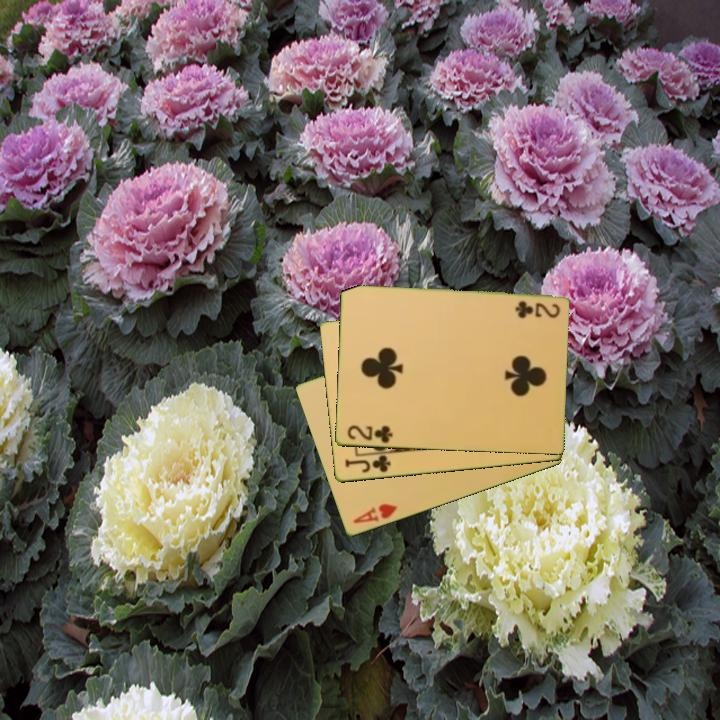2c: (343, 422, 395, 446), (512, 298, 562, 319)
Ah: (349, 500, 401, 527)
Jc: (341, 452, 393, 476)
